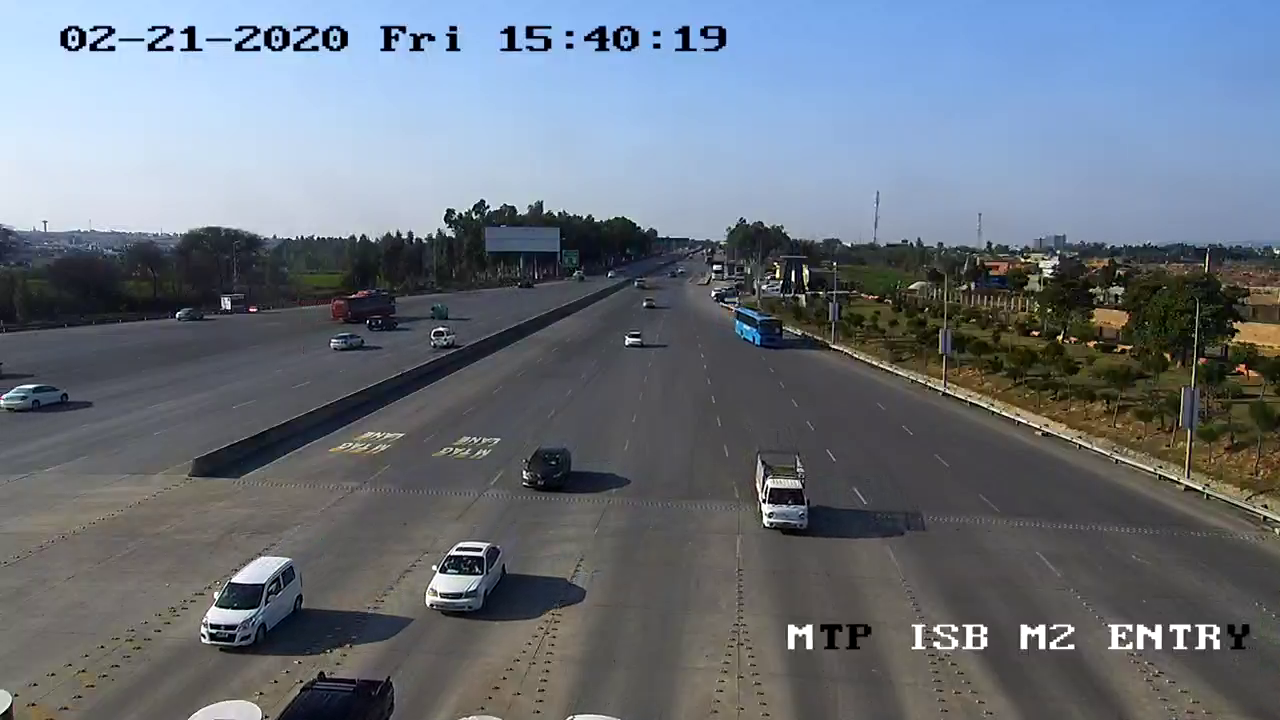f1: (188, 540, 317, 657), (415, 532, 509, 629), (511, 440, 577, 495)
f3: (742, 449, 817, 540)
